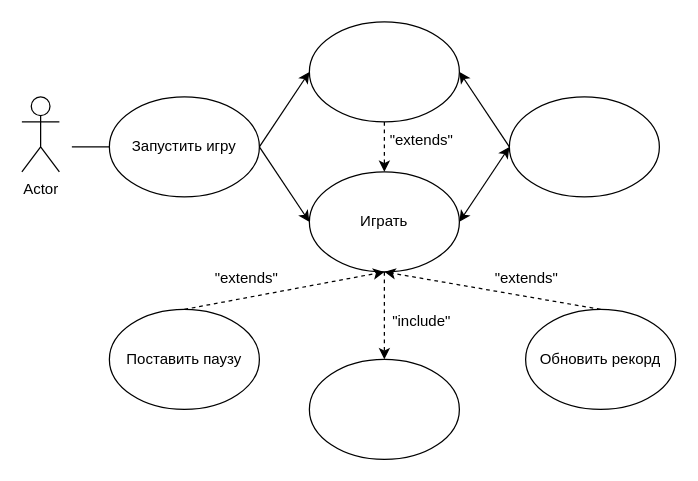
The diagram is 698 pixels wide and 481 high, and some of its shapes have lost their labels. The centre of each missing label's shape, as x and y in pixels:
"Закрыть игру" goes at point (383, 71).
"Конец игры" goes at point (583, 146).
"Управлять движением блоков" goes at point (383, 408).
